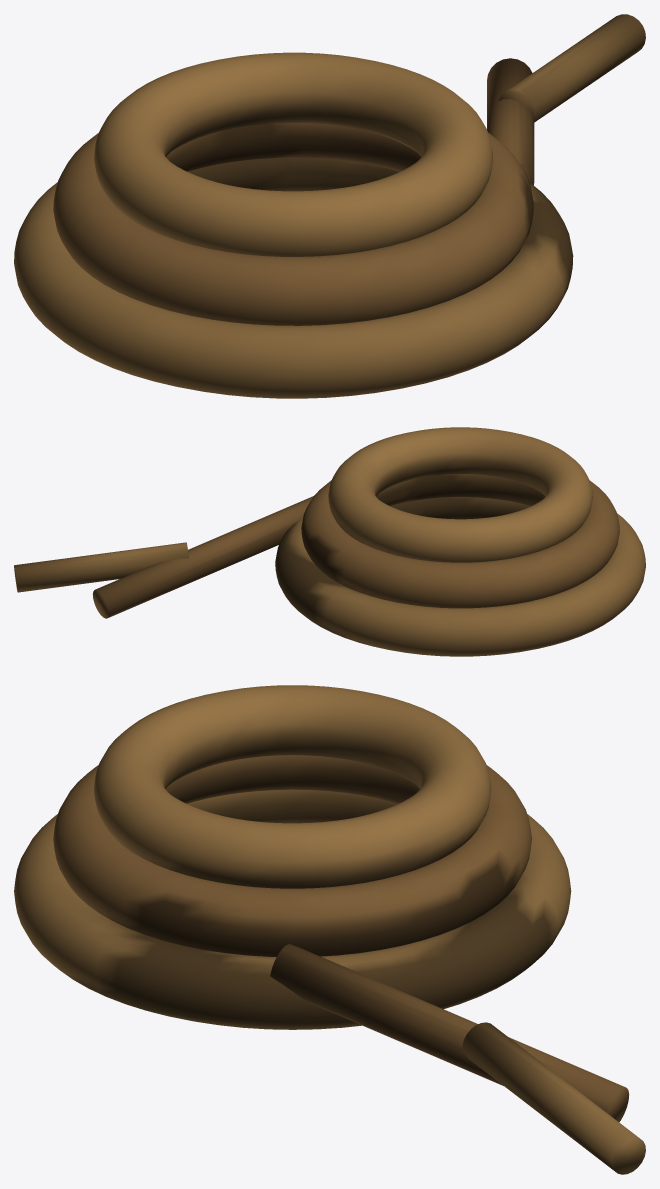
Rendered from rope-coil.obj.
3 views of the same model, one above another, from view 1: azimuth 30°, elevation 25°; view 2: azimuth 150°, elevation 25°; view 3: azimuth 270°, elevation 25° (orthographic). The views are drawn at different scales.
Parts seen in each view (by area): view 1: rope-coil; view 2: rope-coil; view 3: rope-coil.
Part boxes in pixels (x1,y1,x2,y2): rope-coil: (14,14,645,398); rope-coil: (14,427,645,656); rope-coil: (14,685,645,1174).
Bounding box in the file's own units: 0.6636 × 0.1588 × 0.4832.
